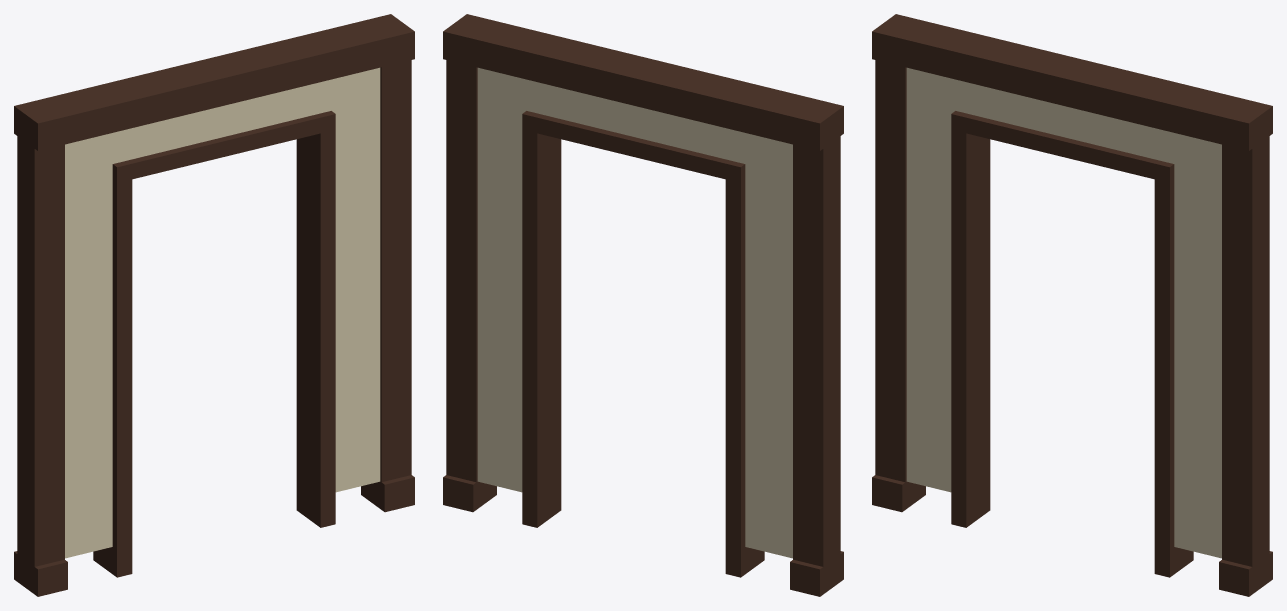
Rendered from 804_empty_thresholdless_door_wall.fbx.
3 renders of one model, left to right at view 1: azimuth 30°, elevation 25°; view 2: azimuth 150°, elevation 25°; view 3: azimuth 330°, elevation 25°, orthographic.
Visible parts, largest first — view 1: 804_empty_thresholdless_door_wall; view 2: 804_empty_thresholdless_door_wall; view 3: 804_empty_thresholdless_door_wall.
Part boxes in pixels (x1,y1,x2,y2): 804_empty_thresholdless_door_wall: (14,14,414,596); 804_empty_thresholdless_door_wall: (443,14,843,596); 804_empty_thresholdless_door_wall: (872,14,1272,596).
Size of the model in its own units: 2 by 2.4 by 0.22.
Materials: 1 (1 with a texture image).
